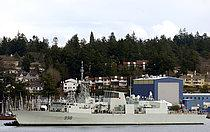MIL_Ship: (11, 62, 207, 125)
